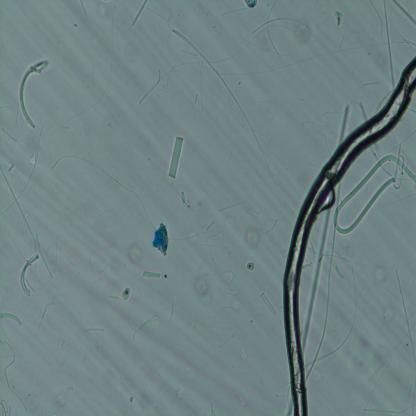Background material: (350, 331, 390, 377), (128, 308, 164, 345), (291, 10, 317, 44), (220, 266, 244, 302), (241, 218, 267, 250), (36, 298, 58, 328), (194, 278, 216, 306), (75, 320, 104, 336), (201, 394, 222, 416), (48, 386, 70, 406), (127, 244, 146, 267), (379, 300, 397, 324), (0, 387, 13, 416), (375, 265, 389, 291), (178, 189, 192, 208), (121, 284, 131, 304), (332, 8, 342, 27), (187, 230, 200, 244), (245, 258, 255, 272), (244, 0, 260, 8), (178, 386, 186, 398), (128, 390, 134, 404)
Fragment: (151, 222, 171, 258)
Glass filter fibre: (171, 28, 265, 151), (332, 147, 416, 235), (302, 195, 342, 352), (0, 169, 54, 277), (20, 60, 48, 127), (382, 1, 396, 90), (266, 1, 283, 58), (140, 66, 164, 104), (19, 252, 38, 297), (0, 339, 17, 386), (168, 134, 184, 180), (394, 1, 416, 25), (339, 104, 352, 144), (260, 290, 278, 318), (131, 1, 146, 26), (0, 310, 23, 324), (3, 124, 18, 144), (141, 268, 162, 279), (334, 262, 345, 280), (7, 160, 18, 175)
